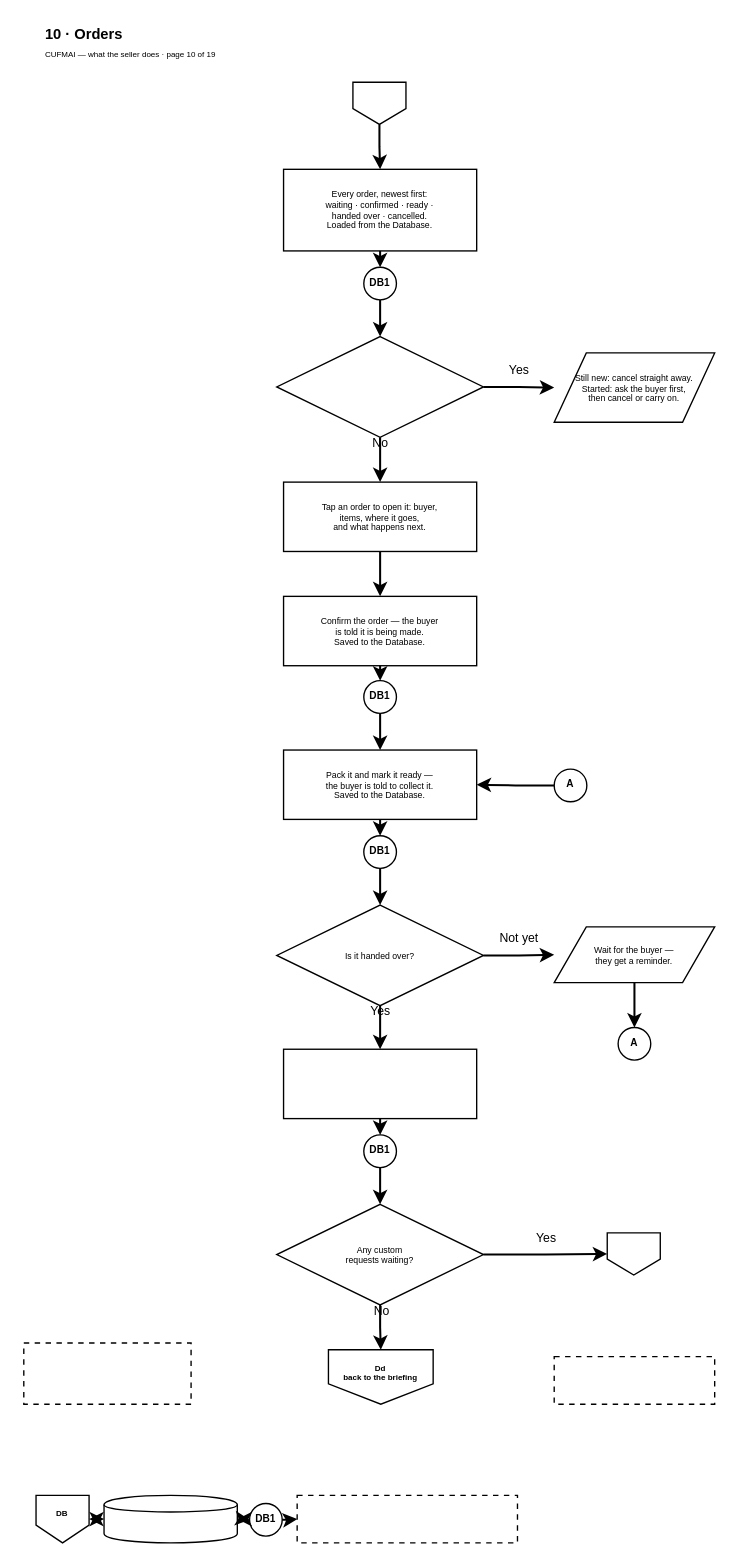
This 738x1567 diagram has some shape labels left out. The shapes that lost their labels are listed below. From the top down, each one's box as (x1, y1, x2, y2) in pixels, then its label:
(352, 81, 406, 124): Os
(275, 335, 483, 437): Did the buyer ask to cancel it?
(282, 1048, 477, 1119): Mark it handed over — the sale counts from here. Saved to the Database.
(606, 1231, 660, 1275): COM
(22, 1342, 191, 1404): A cancelled order can start again when the buyer still wants it.
(553, 1355, 715, 1404): The buyer is told at every step by the app.
(103, 1494, 237, 1543): Database
(296, 1494, 517, 1543): DB steps touch the Database; DB1 marks where in the flow.
